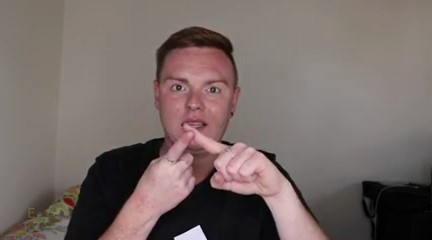E: (130, 120, 285, 216)
